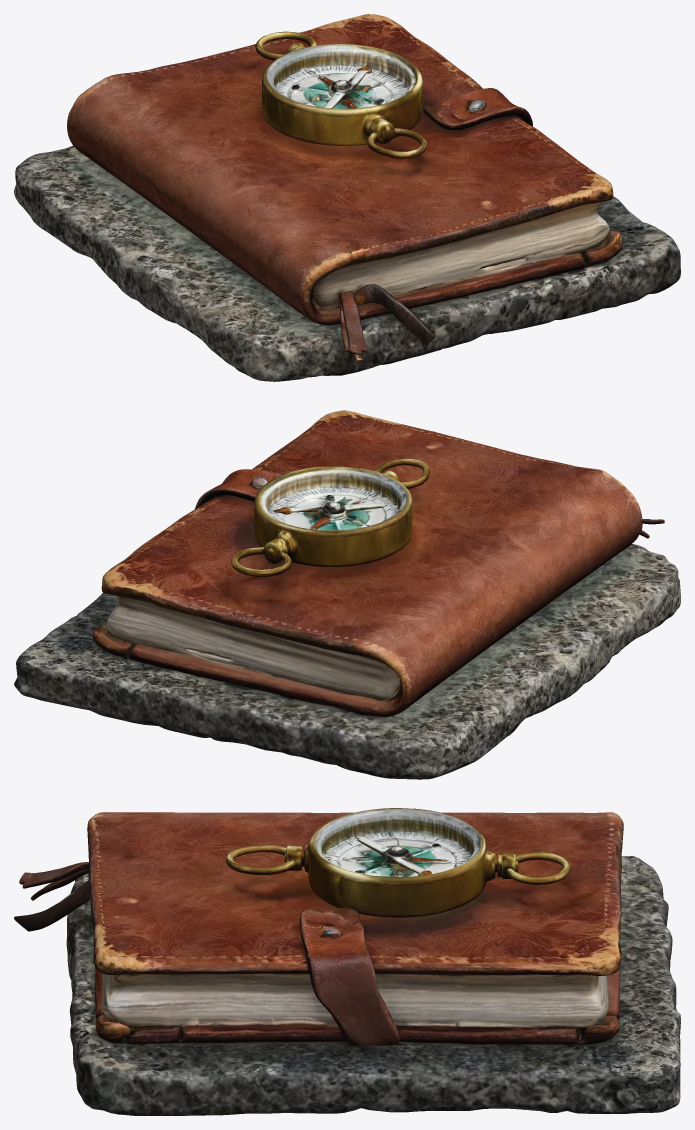
Rendered from journal-compass.glb.
3 views of the same model, one above another, from view 1: azimuth 30°, elevation 25°; view 2: azimuth 150°, elevation 25°; view 3: azimuth 270°, elevation 25° (orthographic). The views are drawn at different scales.
Parts seen in each view (by area): view 1: node_1a3ea20c-3791-4319-b4d2-fd0eba0b97ff; view 2: node_1a3ea20c-3791-4319-b4d2-fd0eba0b97ff; view 3: node_1a3ea20c-3791-4319-b4d2-fd0eba0b97ff.
Part boxes in pixels (x1,y1,x2,y2): node_1a3ea20c-3791-4319-b4d2-fd0eba0b97ff: (14, 14, 680, 381); node_1a3ea20c-3791-4319-b4d2-fd0eba0b97ff: (14, 410, 680, 779); node_1a3ea20c-3791-4319-b4d2-fd0eba0b97ff: (14, 808, 680, 1115).
Size of the model in its own units: 0.8074 by 0.2721 by 0.9783.
1 material, 1 textured.
